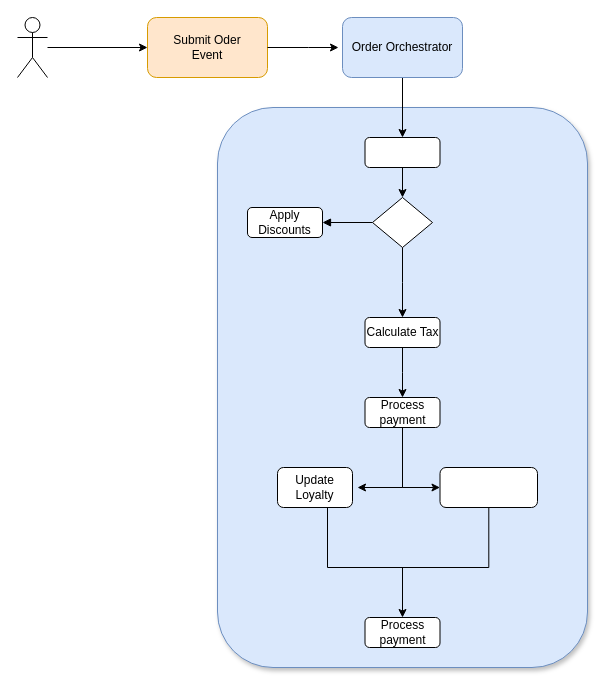
Image size: 611x692. Some labels were removed from this diagram. The centre of each missing label's shape, as x and y in pixels:
Actor: [32,47]
Check Availability: [402,152]
Coupon: [402,222]
Generate Personalized Marketing: [488,487]
